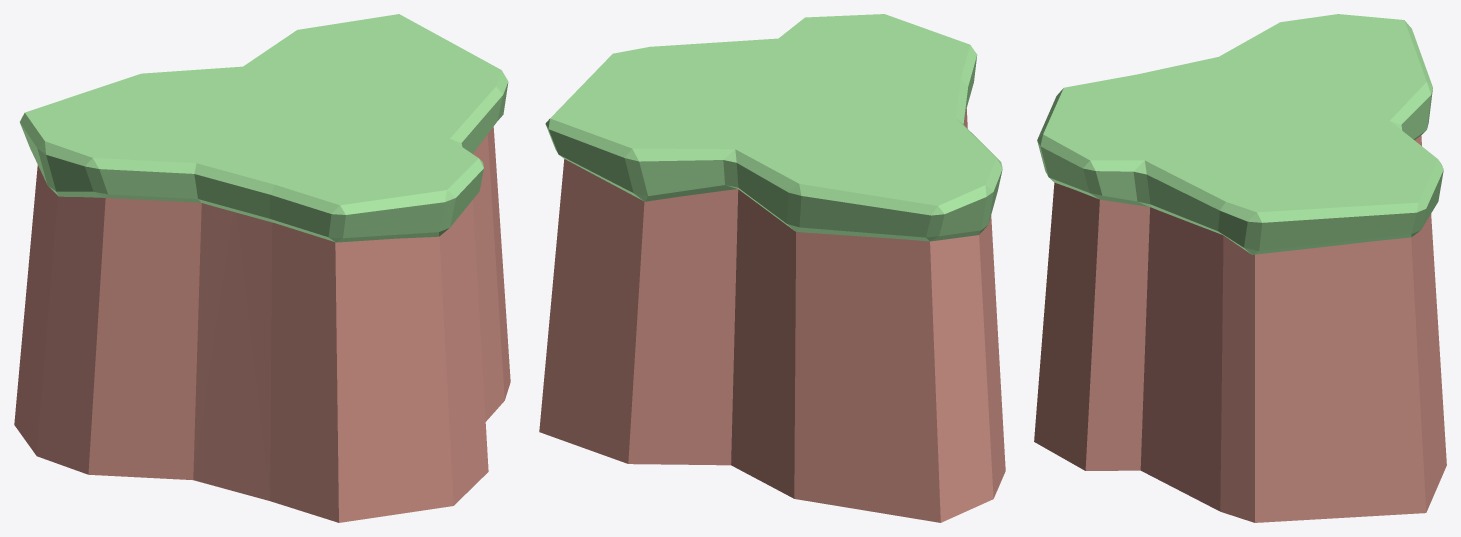
The model's file is Plane_008_Vlad.fbx.
3 renders of one model, left to right at view 1: azimuth 30°, elevation 25°; view 2: azimuth 150°, elevation 25°; view 3: azimuth 270°, elevation 25°, orthographic. The views are drawn at different scales.
Parts seen in each view (by area): view 1: Plane.008; view 2: Plane.008; view 3: Plane.008.
Part boxes in pixels (box(x1,y1,x2,y2)): Plane.008: box(14, 14, 510, 522); Plane.008: box(539, 14, 1005, 522); Plane.008: box(1034, 14, 1446, 522).
Bounding box in the file's own units: 302 × 210 × 255.
